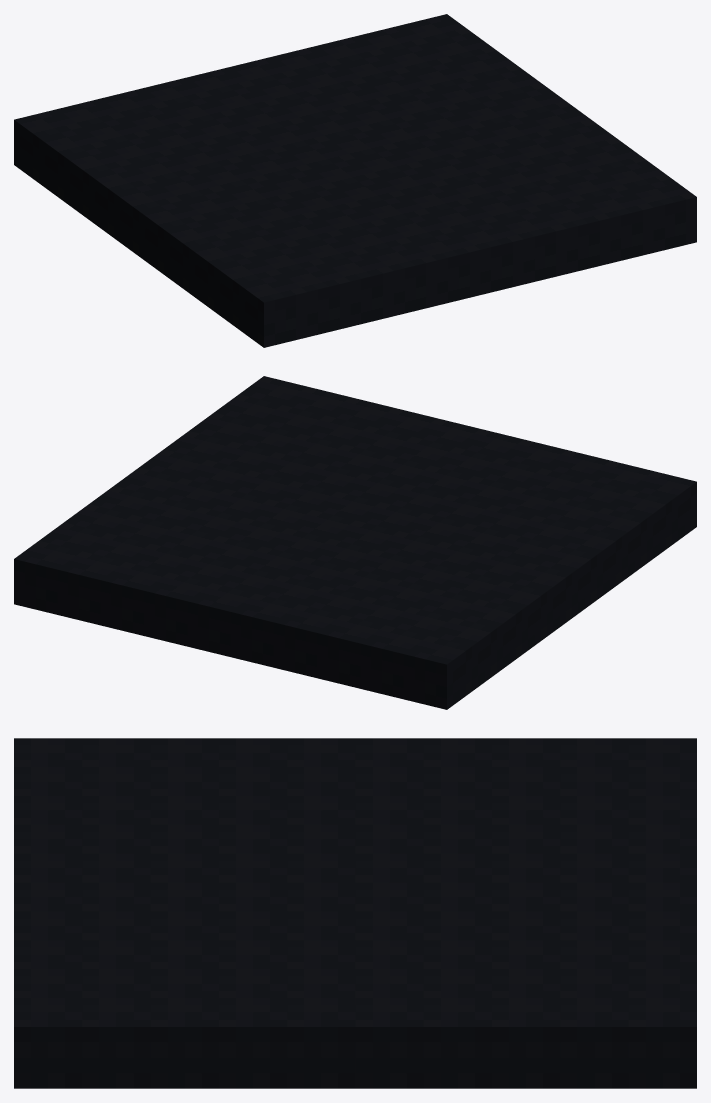
The model's file is RetaX10.fbx.
3 renders of one model, top to bottom at view 1: azimuth 30°, elevation 25°; view 2: azimuth 150°, elevation 25°; view 3: azimuth 270°, elevation 25°, orthographic. The views are drawn at different scales.
Visible parts, largest first — view 1: Reta Menor; view 2: Reta Menor; view 3: Reta Menor.
Part boxes in pixels (x1,y1,x2,y2): Reta Menor: (14,14,696,347); Reta Menor: (14,376,696,709); Reta Menor: (14,738,696,1088).
Bounding box in the file's own units: 1000 × 100 × 1000.
1 material, 1 textured.
